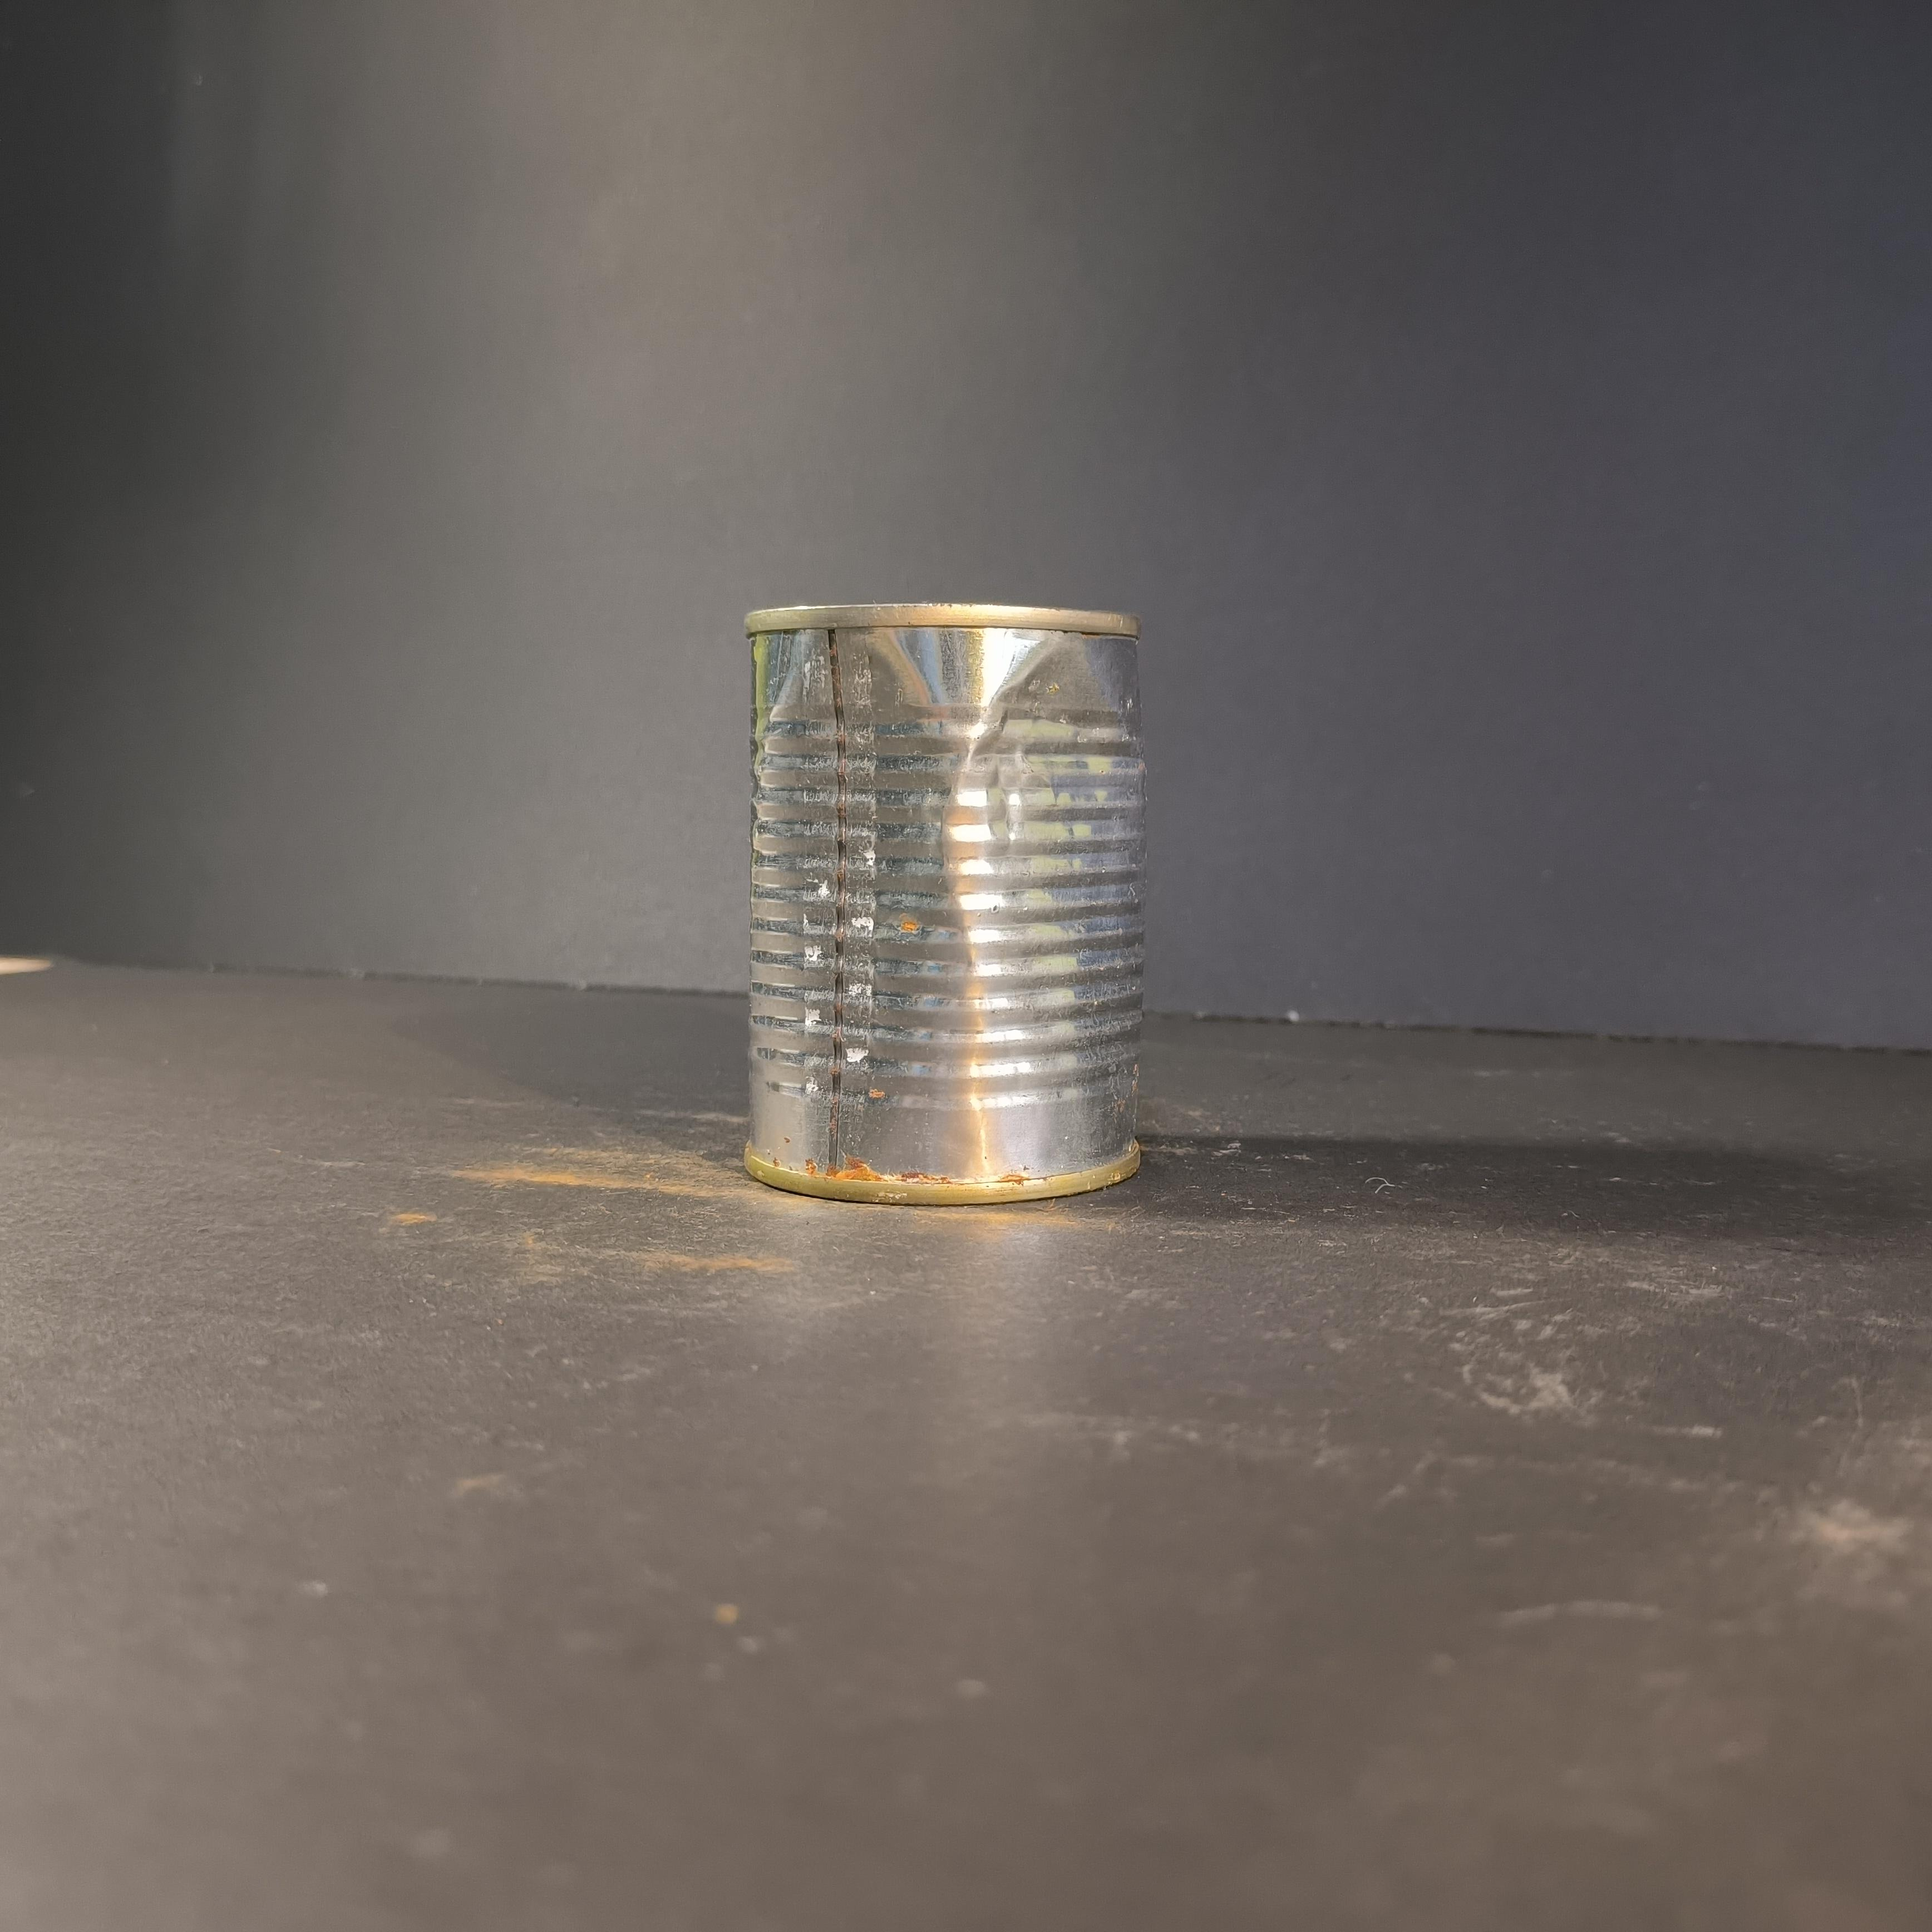Minor Defect: (743, 602, 1145, 1205)
